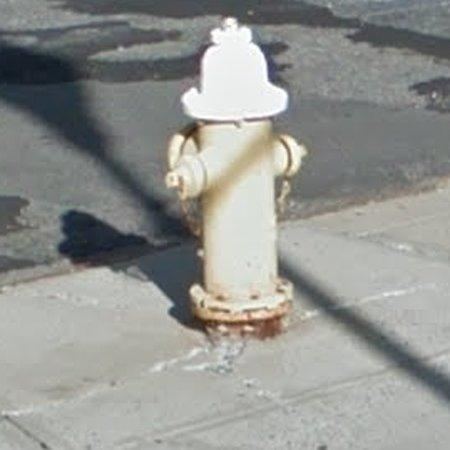a fire hydrant: (166, 17, 307, 337)
